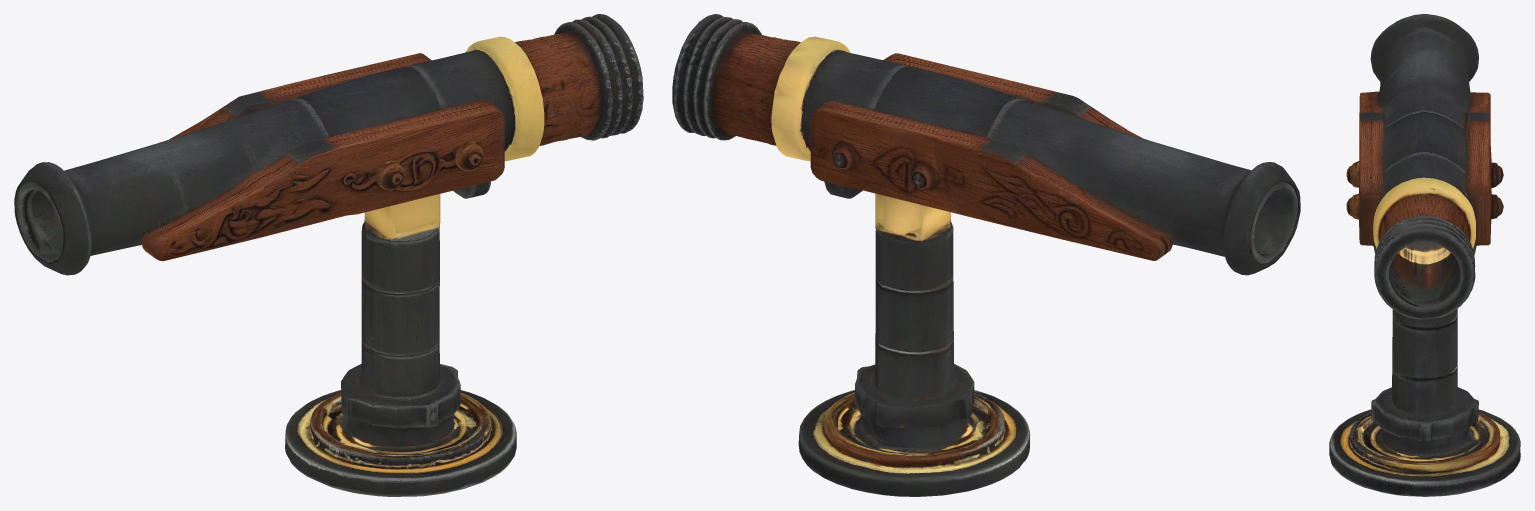
File: wpn-bombard.glb
3 renders of one model, left to right at view 1: azimuth 30°, elevation 25°; view 2: azimuth 150°, elevation 25°; view 3: azimuth 270°, elevation 25°, orthographic. The views are drawn at different scales.
Bounding box in the file's own units: 0.314 × 0.2 × 0.1094.
1 material, 1 textured.
